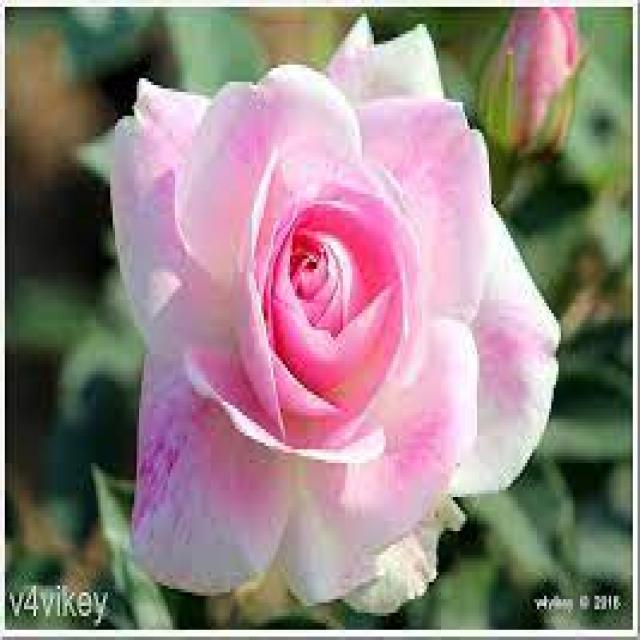rose: (84, 25, 575, 589)
